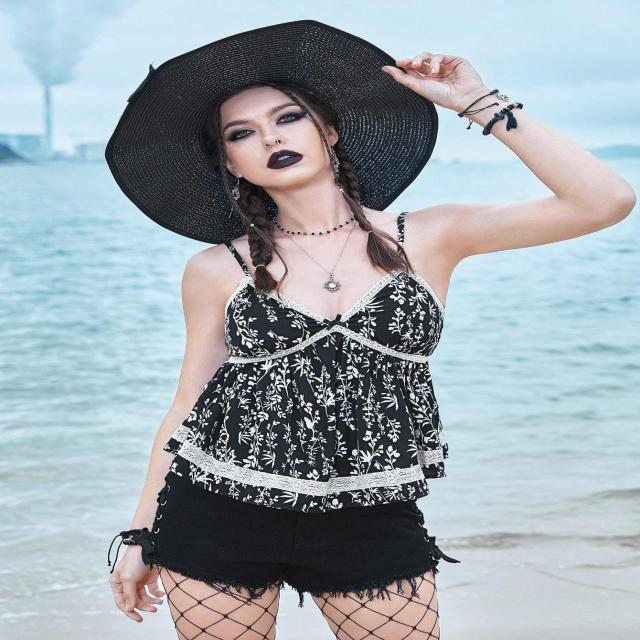Earring: (326, 140, 344, 178), (230, 172, 243, 220)
